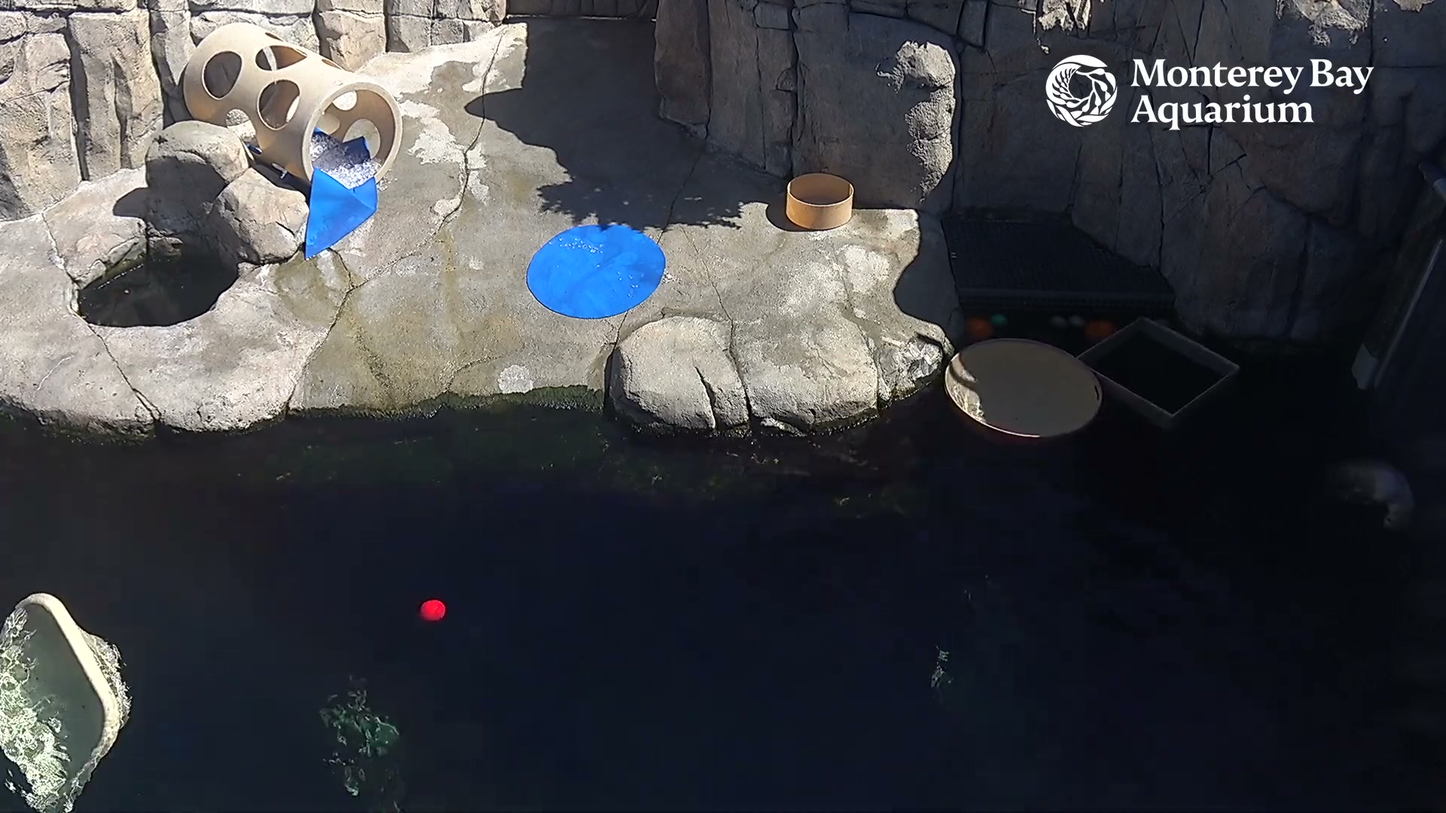Southern Sea Otter: (1292, 446, 1446, 566)
